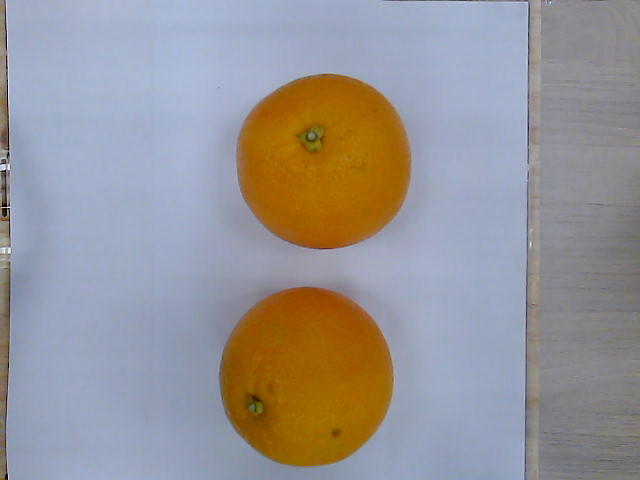fresh_orange: (219, 289, 396, 467), (236, 73, 411, 250)
